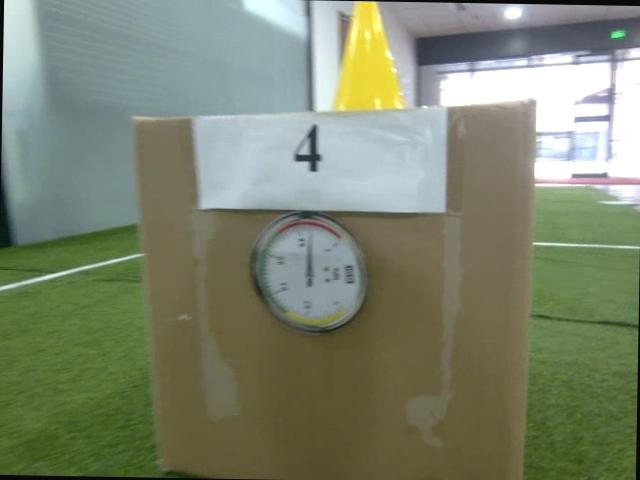4: (288, 122, 326, 174)
Dashboard: (248, 210, 372, 338)
ssi: (340, 262, 357, 285)
yellow_barrel: (329, 0, 416, 114)
